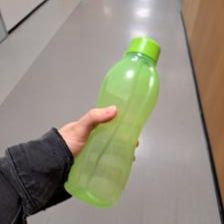bottle: (60, 35, 166, 206)
